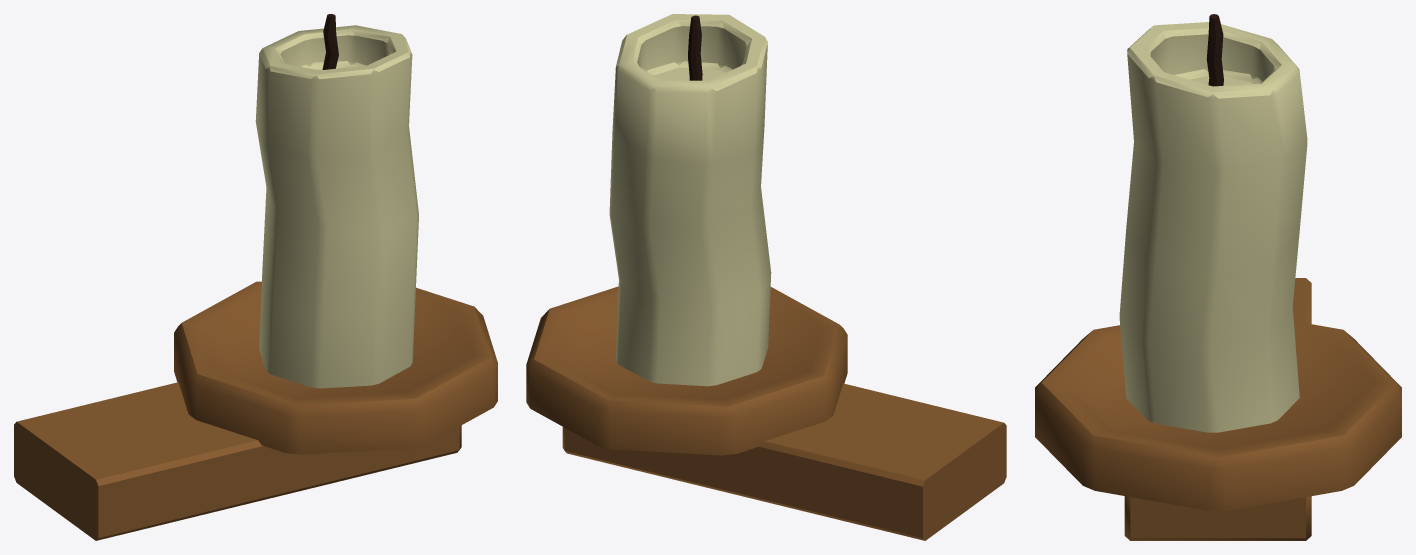
File: Candle.fbx
3 views of the same model, side by side, from view 1: azimuth 30°, elevation 25°; view 2: azimuth 150°, elevation 25°; view 3: azimuth 270°, elevation 25° (orthographic). The views are drawn at different scales.
Parts seen in each view (by area): view 1: Cylinder_1, Candle_Support, Candle_Plate, Cylinder; view 2: Cylinder_1, Candle_Support, Candle_Plate, Cylinder; view 3: Cylinder_1, Candle_Plate, Candle_Support, Cylinder.
Part boxes in pixels (x1=…): Cylinder_1: x1=255, y1=25, x2=418, y2=388; Candle_Support: x1=14, y1=382, x2=461, y2=540; Candle_Plate: x1=174, y1=281, x2=497, y2=454; Cylinder: x1=322, y1=14, x2=338, y2=69; Cylinder_1: x1=609, y1=14, x2=771, y2=386; Candle_Support: x1=562, y1=383, x2=1006, y2=540; Candle_Plate: x1=526, y1=286, x2=847, y2=455; Cylinder: x1=688, y1=15, x2=702, y2=80; Cylinder_1: x1=1119, y1=22, x2=1307, y2=432; Candle_Plate: x1=1035, y1=321, x2=1401, y2=510; Candle_Support: x1=1124, y1=278, x2=1311, y2=540; Cylinder: x1=1206, y1=14, x2=1223, y2=86.
Bounding box in the file's own units: 49.85 × 48.53 × 33.79.
